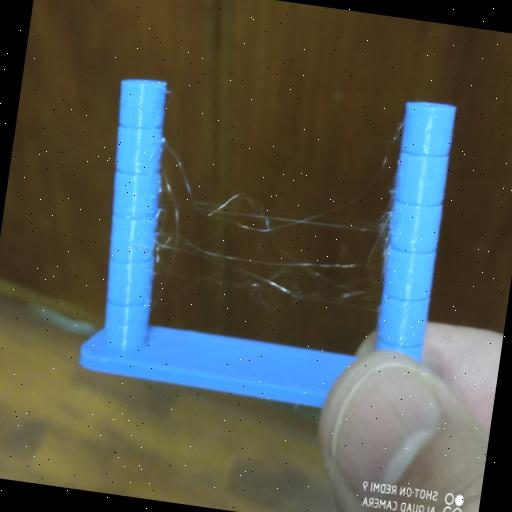stringing: (130, 118, 396, 329)
